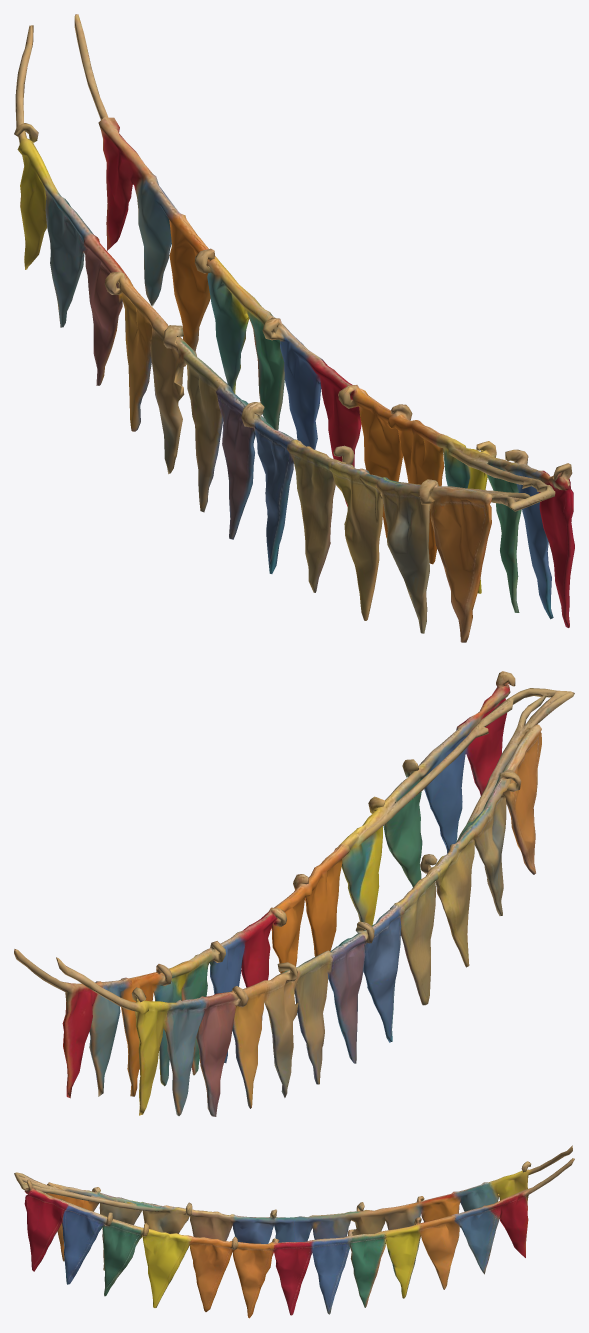
The model's file is bunting.glb.
3 renders of one model, top to bottom at view 1: azimuth 30°, elevation 25°; view 2: azimuth 150°, elevation 25°; view 3: azimuth 270°, elevation 25°, orthographic. The views are drawn at different scales.
Visible parts, largest first — view 1: tripo_node_f560206a-006d-43cc-b0e8-bce9c580aeb7; view 2: tripo_node_f560206a-006d-43cc-b0e8-bce9c580aeb7; view 3: tripo_node_f560206a-006d-43cc-b0e8-bce9c580aeb7.
Boxes of the visible parts, <box> form: tripo_node_f560206a-006d-43cc-b0e8-bce9c580aeb7: <box>14,14,574,642</box>; tripo_node_f560206a-006d-43cc-b0e8-bce9c580aeb7: <box>14,671,574,1116</box>; tripo_node_f560206a-006d-43cc-b0e8-bce9c580aeb7: <box>14,1145,574,1318</box>.
Bounding box in the file's own units: 0.1406 × 0.3146 × 1.
1 material, 1 textured.
